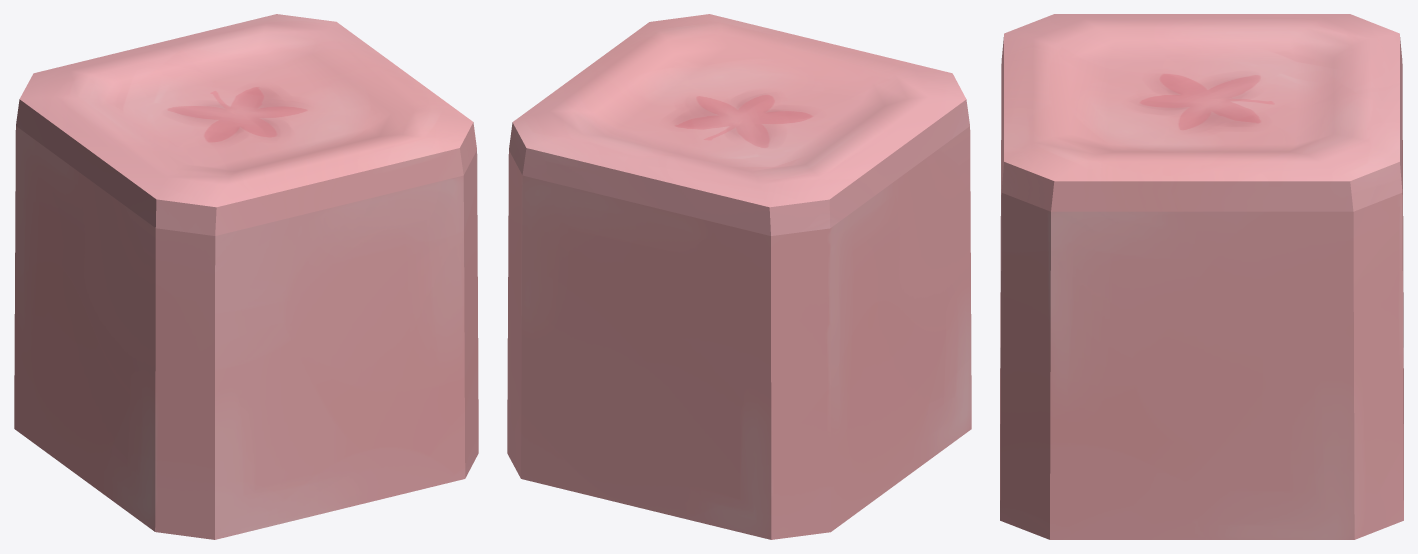
Rendered from candy2.fbx.
The picture shows the model from 3 angles, left to right: view 1: azimuth 30°, elevation 25°; view 2: azimuth 150°, elevation 25°; view 3: azimuth 270°, elevation 25°; orthographic projection. The views are drawn at different scales.
Parts seen in each view (by area): view 1: pasted__pCube1; view 2: pasted__pCube1; view 3: pasted__pCube1.
Boxes of the visible parts, x1,y1,x2,y2 form: pasted__pCube1: [14, 14, 478, 539]; pasted__pCube1: [507, 14, 971, 539]; pasted__pCube1: [1000, 14, 1403, 539].
Size of the model in its own units: 1 by 1 by 1.
1 material, 1 textured.
